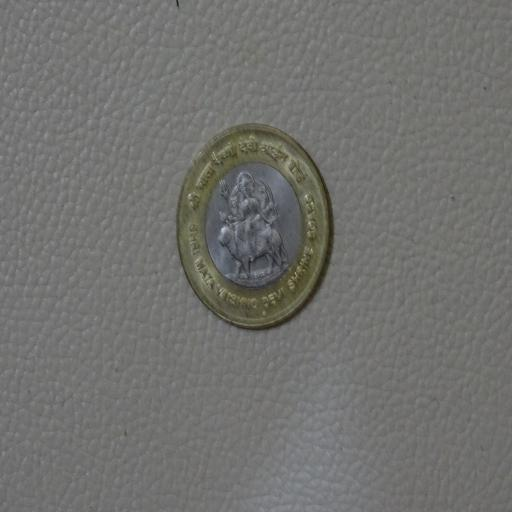rupee10: (171, 124, 336, 338)
